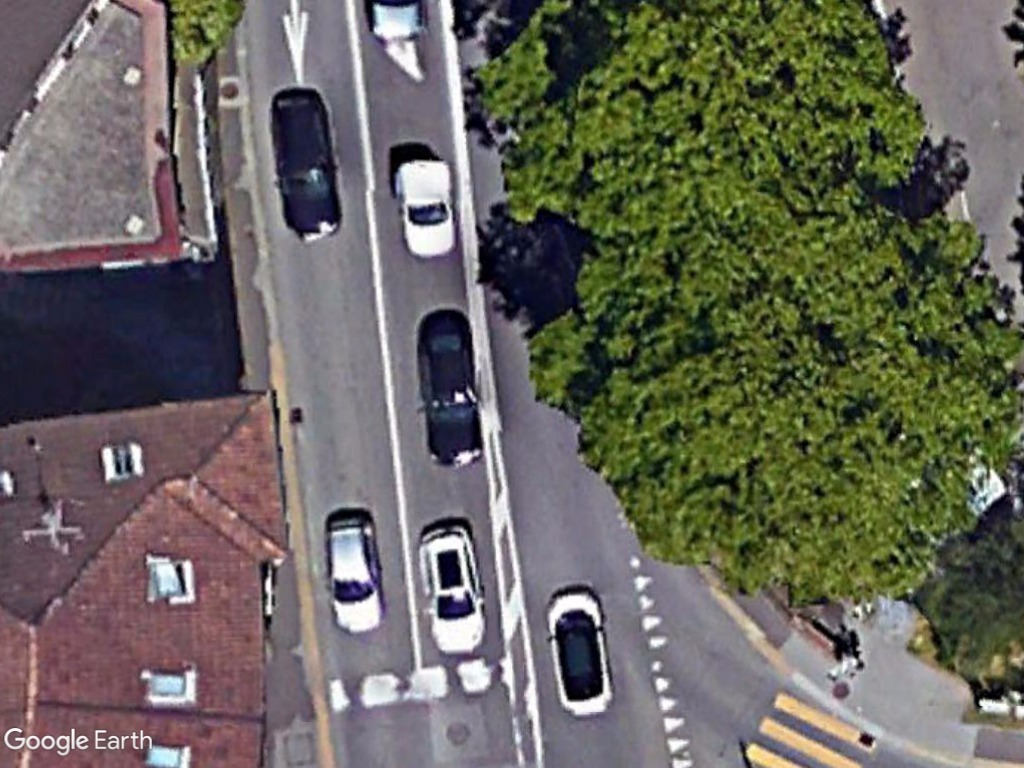car: (266, 89, 346, 244), (415, 318, 488, 472), (414, 522, 489, 658), (543, 585, 618, 719), (320, 509, 388, 640)
